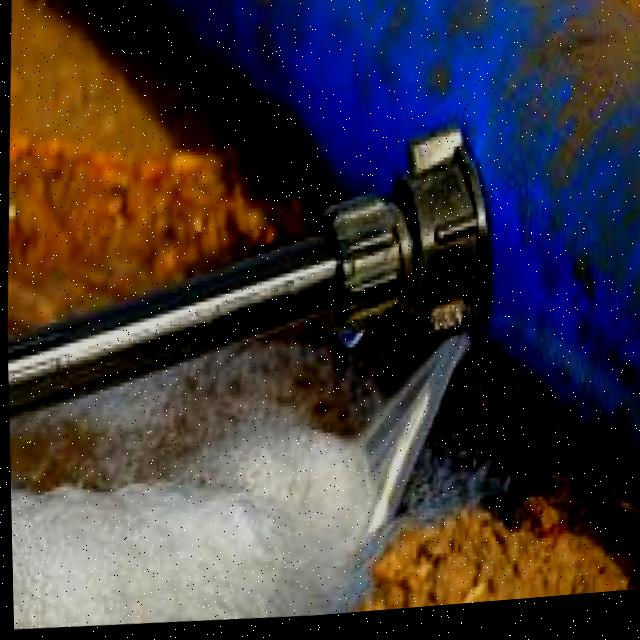corrosion: (348, 250, 536, 431)
